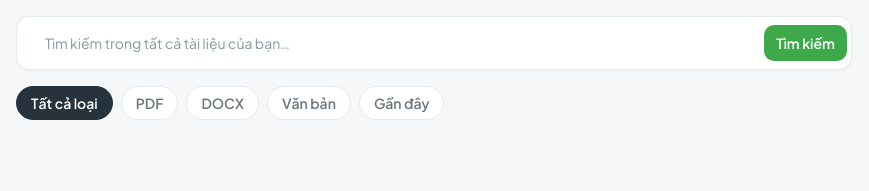
Scenario: SearchPage › shows an error message when the search request fails
This screenshot has width=869, height=191.
Type "revenue" into the field named "Tìm kiếm tài liệu của bạn" at x=393, y=43, box [33,21,752,65]
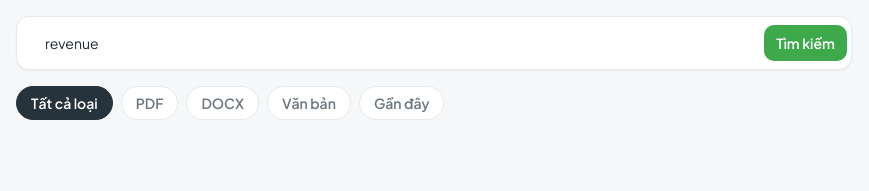
Click the button "Tìm kiếm" at x=806, y=43, box [764,25,847,61]
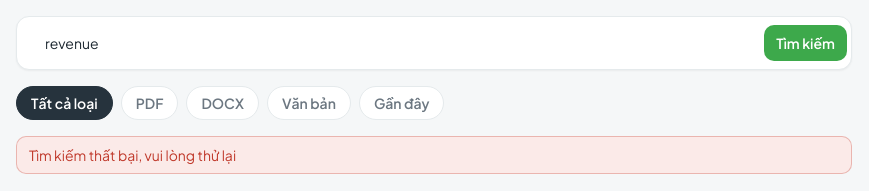
Expected: the message reads "Tìm kiếm thất bại, vui lòng thử lại", [29,146,236,164]
